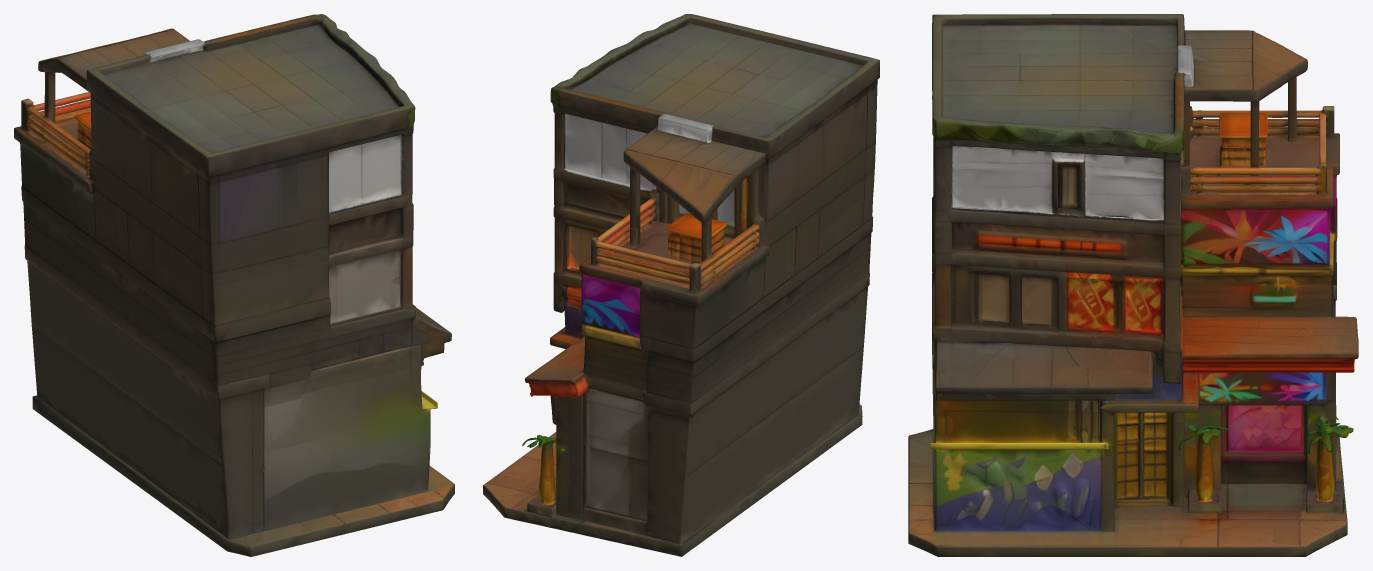
Rendered from danco.glb.
The picture shows the model from 3 angles, left to right: view 1: azimuth 30°, elevation 25°; view 2: azimuth 150°, elevation 25°; view 3: azimuth 270°, elevation 25°; orthographic projection. The views are drawn at different scales.
Parts seen in each view (by area): view 1: tripo_node_0e4a3b39-33ac-43e9-a63a-b9b77c698b7e; view 2: tripo_node_0e4a3b39-33ac-43e9-a63a-b9b77c698b7e; view 3: tripo_node_0e4a3b39-33ac-43e9-a63a-b9b77c698b7e.
Boxes of the visible parts, x1,y1,x2,y2 form: tripo_node_0e4a3b39-33ac-43e9-a63a-b9b77c698b7e: (14, 14, 454, 556); tripo_node_0e4a3b39-33ac-43e9-a63a-b9b77c698b7e: (483, 14, 879, 556); tripo_node_0e4a3b39-33ac-43e9-a63a-b9b77c698b7e: (908, 14, 1358, 556).
Size of the model in its own units: 0.6561 by 1 by 0.9778.
Materials: 1 (1 with a texture image).
